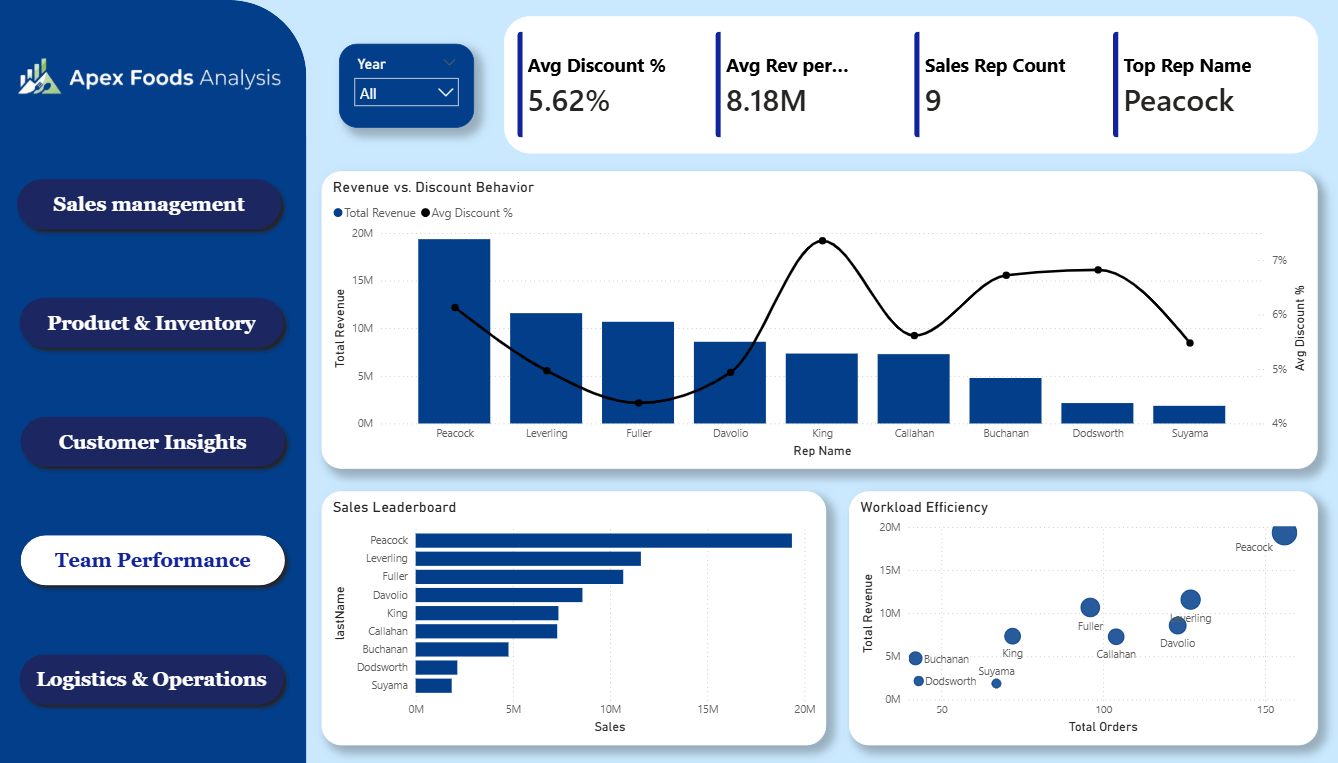

Layout of this report page (visuals, bound fields, positions):
{"tool":"powerbi","page":{"name":"Sales Team Performance","canvas":[1530,875],"ordinal":3},"visuals":[{"type":"clusteredBarChart","title":"Sales Leaderboard","fields":{"Category":["EmployeesDim.lastName"],"Y":["Dax_Measures.Total Revenue"]},"box":[368.6,561.4,577.1,290],"z":0},{"type":"scatterChart","title":"Workload Efficiency","fields":{"Category":["EmployeesDim.lastName"],"X":["Dax_Measures.Total Orders"],"Y":["Dax_Measures.Total Revenue"],"Size":["Dax_Measures.Total Revenue"]},"box":[971.4,561.4,535.7,290],"z":1000},{"type":"lineClusteredColumnComboChart","title":"Revenue vs. Discount Behavior","fields":{"Category":["EmployeesDim.lastName"],"Y":["Dax_Measures.Total Revenue"],"Y2":["Dax_Measures.Avg Discount %"]},"box":[368.6,195.7,1138.6,340],"z":2000},{"type":"shape","title":"FlyOut","box":[0,0,351.4,875.7],"z":3000},{"type":"actionButton","title":"Product","box":[14.3,738.6,320,75.7],"z":4000},{"type":"actionButton","title":"Quantity","box":[15.7,603,320,75],"z":5000},{"type":"actionButton","title":"Profit","box":[15.7,467.5,320,75],"z":6000},{"type":"actionButton","title":"Sales","box":[14.6,332,320,75],"z":7000},{"type":"actionButton","title":"KPIs","box":[11.4,195.7,320,75.7],"z":8000},{"type":"cardVisual","fields":{"Data":["Dax_Measures.Avg Discount %","Dax_Measures.Avg Rev per Employee","Dax_Measures.Sales Rep Count","Dax_Measures.Top Rep Name"]},"box":[577.1,18.6,930,157.1],"z":9000},{"type":"image","box":[16.7,28.3,308.3,116.7],"z":10000},{"type":"slicer","fields":{"Values":["DateTable.Year"]},"box":[388.6,50,154.3,95.7],"z":11000}]}

Visuals, with their boxes in screenshot pixels (x1, y1, x2, y2), scaled from the page's 1530x875 canvas onto the 1338x763 screenshot:
"Sales Leaderboard" clusteredBarChart: crop(322, 490, 827, 742)
"Workload Efficiency" scatterChart: crop(849, 490, 1318, 742)
"Revenue vs. Discount Behavior" lineClusteredColumnComboChart: crop(322, 171, 1318, 467)
"FlyOut" shape: crop(0, 0, 307, 762)
"Product" actionButton: crop(13, 644, 292, 710)
"Quantity" actionButton: crop(14, 526, 294, 591)
"Profit" actionButton: crop(14, 408, 294, 473)
"Sales" actionButton: crop(13, 290, 293, 355)
"KPIs" actionButton: crop(10, 171, 290, 237)
cardVisual - Dax_Measures.Avg Discount % x Dax_Measures.Avg Rev per Employee: crop(505, 16, 1318, 153)
image: crop(15, 25, 284, 126)
slicer - DateTable.Year: crop(340, 44, 475, 127)
